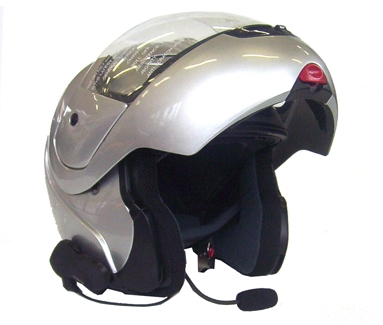helmet: (53, 27, 331, 283)
